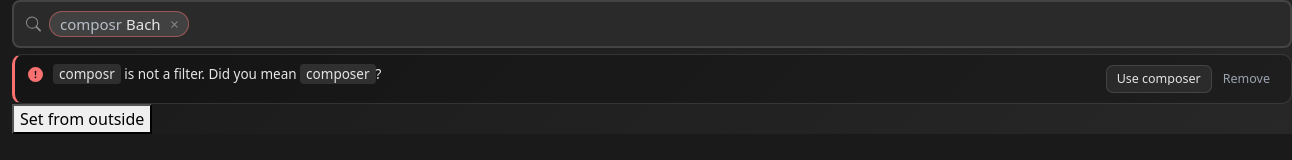
SearchPills › says what a mistyped key was meant to be, and mends it
Expected: the message shows "composr is not a filter. Did you mean composer?", x1=12 y1=54 x2=1291 y2=104
Click the button "Use composer" at (1159, 79), box x1=1106 y1=65 x2=1212 y2=93
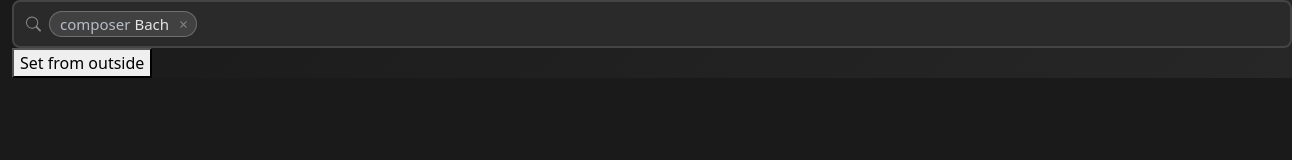
Now the message "composr is not a filter. Did you mean composer? Use composer Remove" is gone
